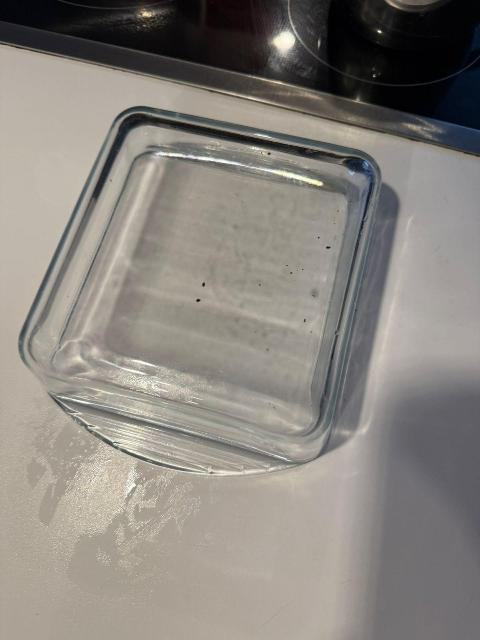Cam: (23, 101, 435, 485)
